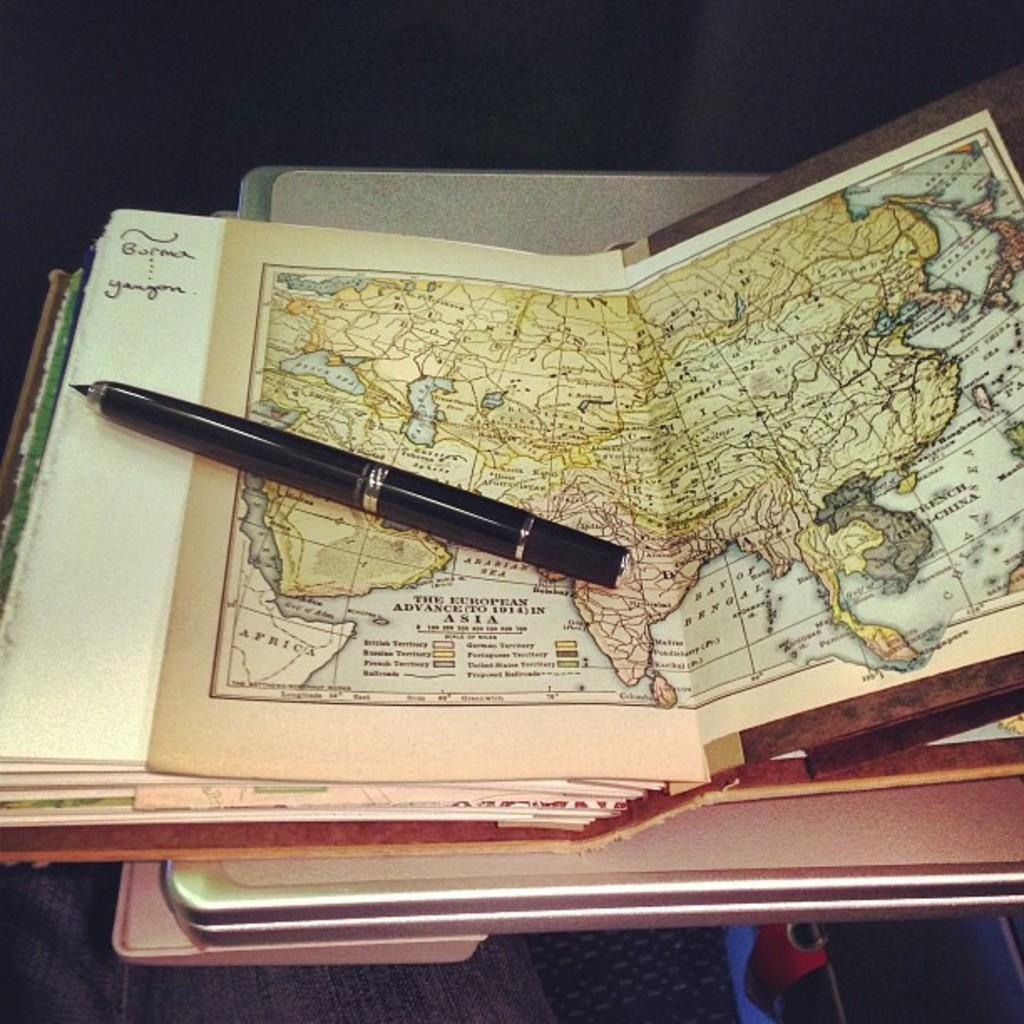pen: (69, 376, 634, 592)
